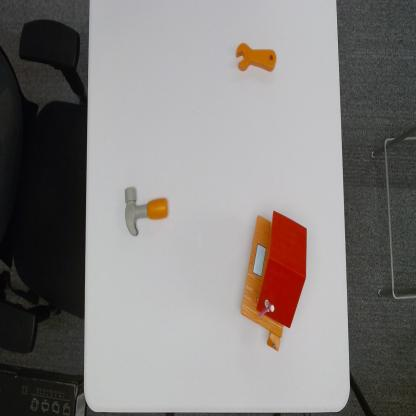Hammer: (123, 181, 169, 239)
House: (239, 205, 309, 354)
Screwdriver: (234, 41, 276, 74)
